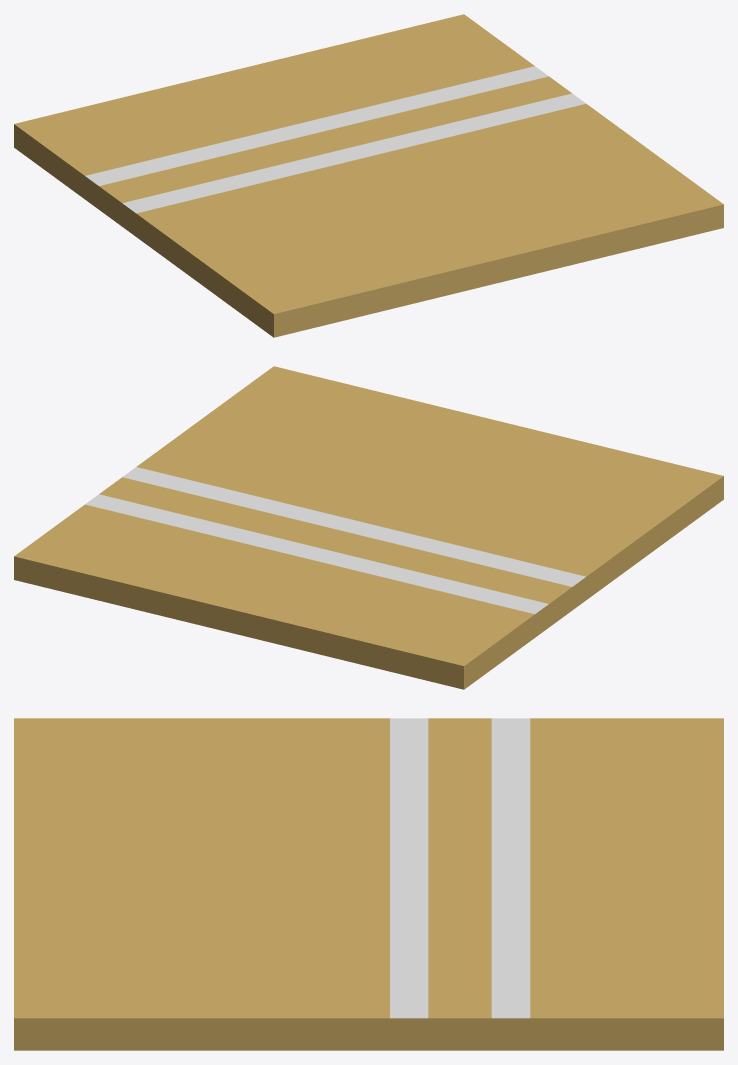
File: tiles_all_test.fbx
The picture shows the model from 3 angles, top to bottom: view 1: azimuth 30°, elevation 25°; view 2: azimuth 150°, elevation 25°; view 3: azimuth 270°, elevation 25°; orthographic projection. The views are drawn at different scales.
Parts seen in each view (by area): view 1: tile_border; view 2: tile_border; view 3: tile_border.
Boxes of the visible parts, bbox=[...] form: tile_border: bbox=[14, 14, 723, 337]; tile_border: bbox=[14, 366, 723, 689]; tile_border: bbox=[14, 718, 723, 1050].
Bounding box in the file's own units: 100 × 5 × 100.
